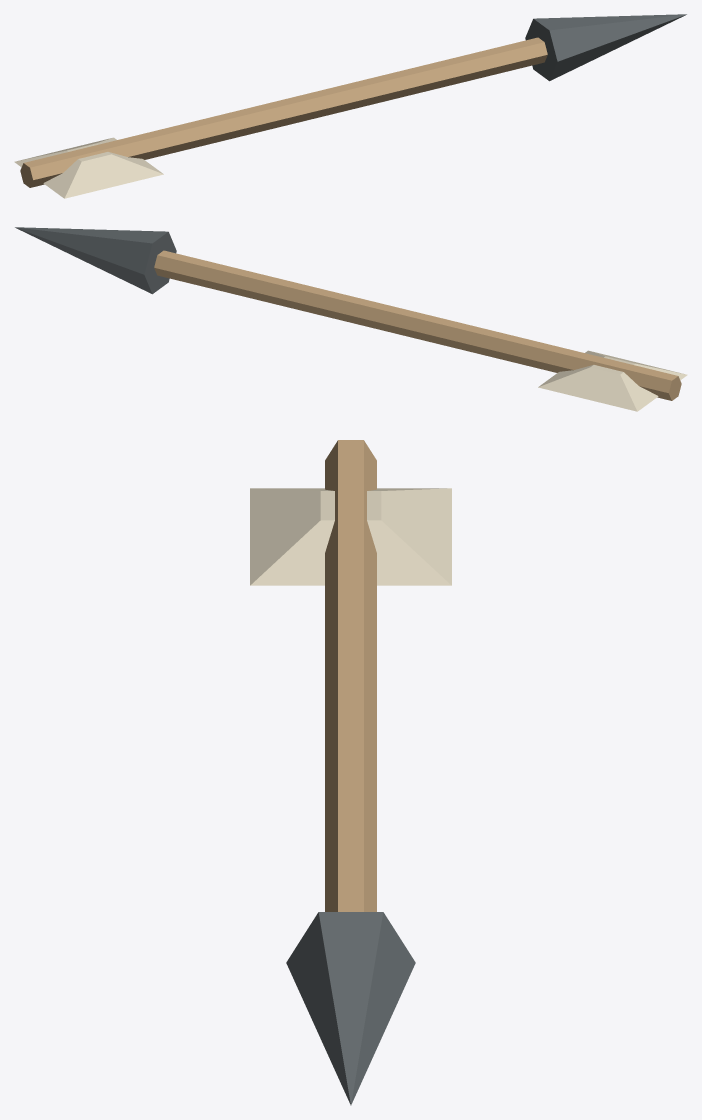
File: item_054_arrow_s.glb
The picture shows the model from 3 angles, top to bottom: view 1: azimuth 30°, elevation 25°; view 2: azimuth 150°, elevation 25°; view 3: azimuth 270°, elevation 25°; orthographic projection. The views are drawn at different scales.
Parts seen in each view (by area): view 1: item_054_arrow_s; view 2: item_054_arrow_s; view 3: item_054_arrow_s.
Part boxes in pixels (box(x1,y1,x2,y2)): item_054_arrow_s: box(14, 14, 686, 198); item_054_arrow_s: box(15, 227, 687, 411); item_054_arrow_s: box(250, 440, 451, 1105).
Bounding box in the file's own units: 0.53 × 0.039 × 0.07.
